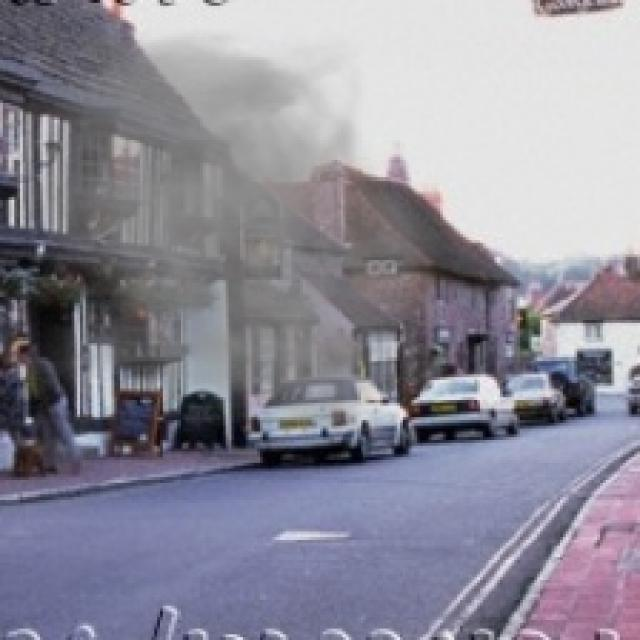Smoke: (28, 29, 454, 432)
